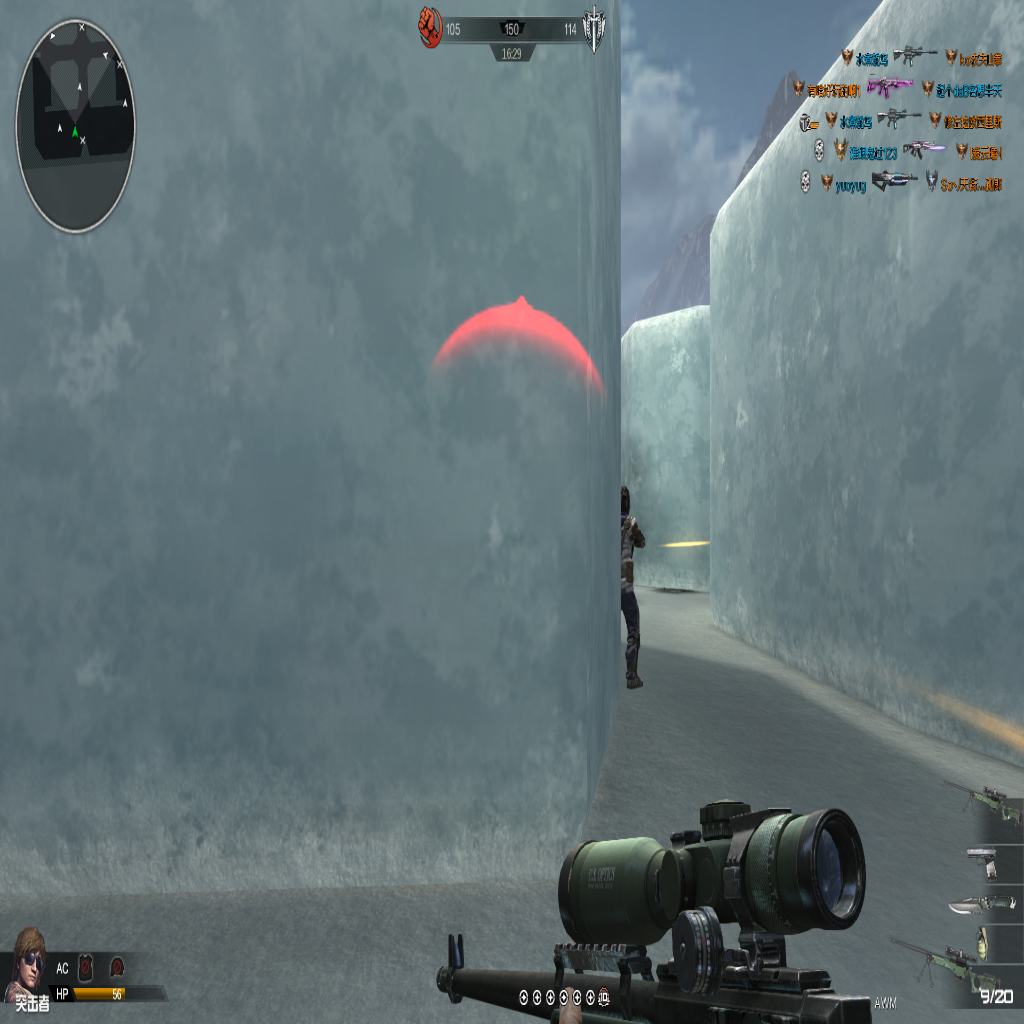tt: (619, 479, 645, 693)
